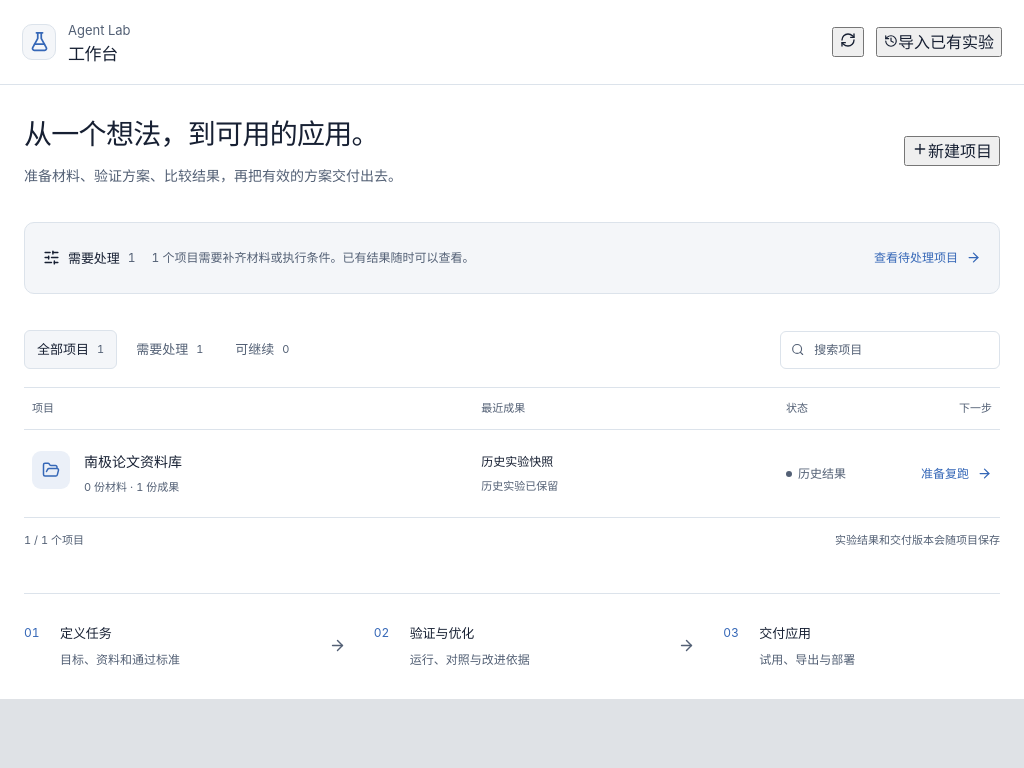
Agent-led Lab project container › turns the returning home into a continuation workbench with truthful next actions
Expected: the heading "需要处理" is shown, [68, 246, 120, 270]
Expected: the button with aria-label "南极论文资料库，历史结果" is shown, [32, 451, 465, 496]
Click the button "新建项目".
click(952, 151)  # box [904, 136, 1000, 166]
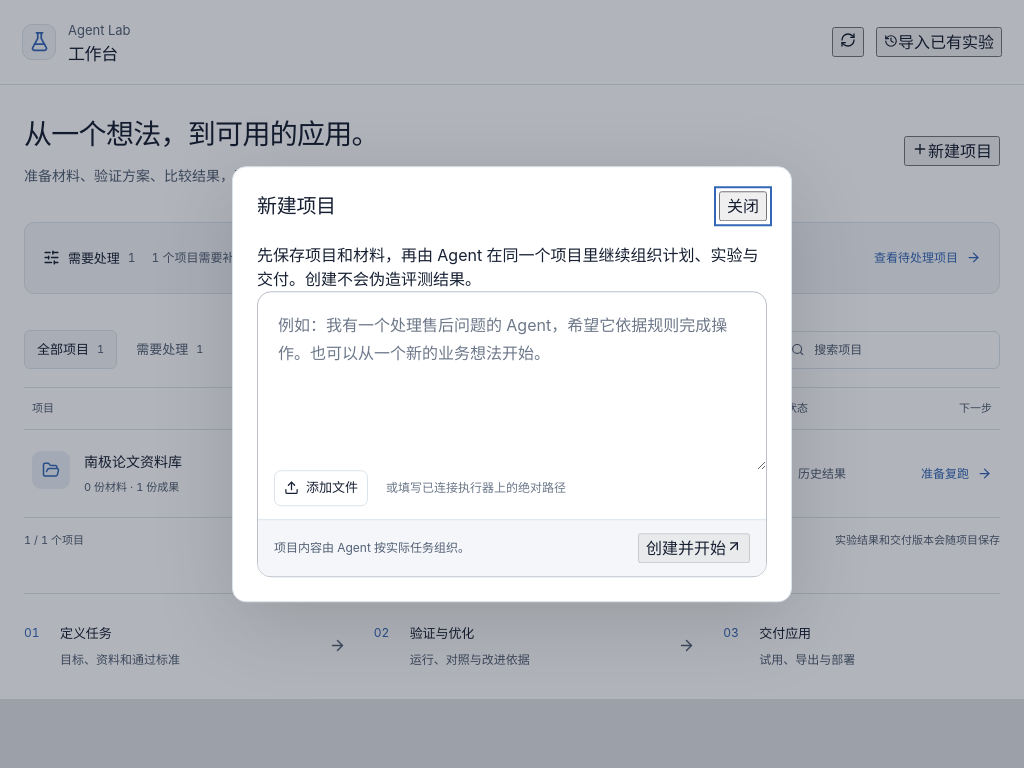
Expected: the dialog "新建项目" is shown, [232, 166, 792, 602]
